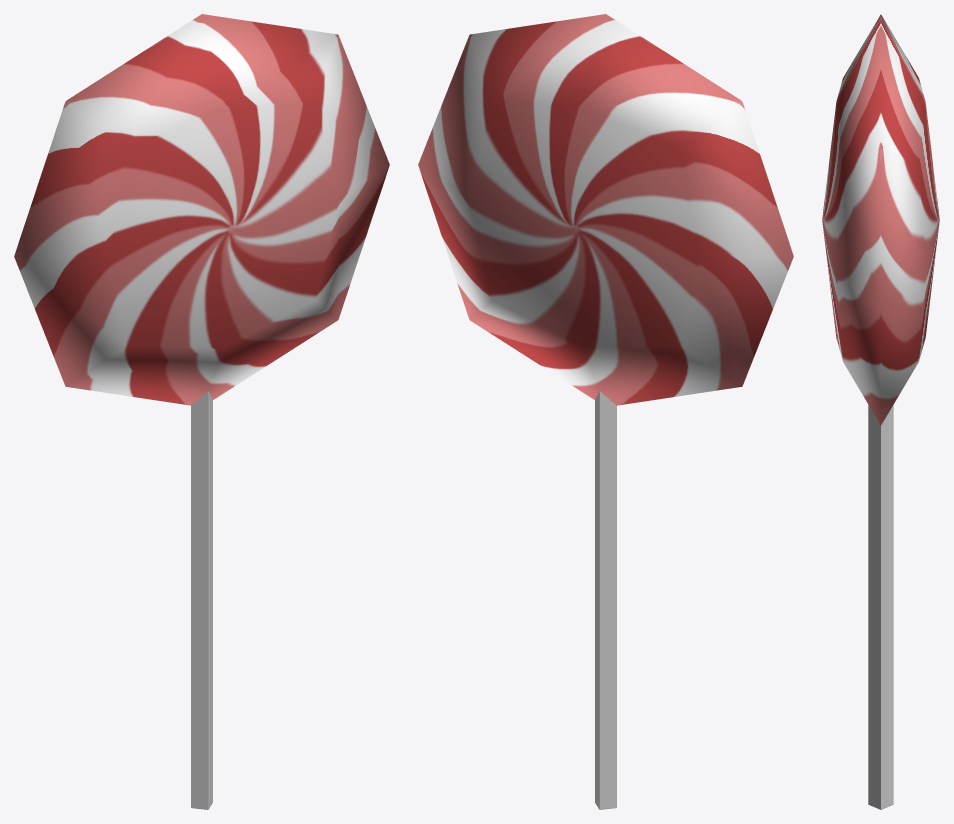
File: Lollipop.fbx
3 views of the same model, side by side, from view 1: azimuth 30°, elevation 25°; view 2: azimuth 150°, elevation 25°; view 3: azimuth 270°, elevation 25° (orthographic).
Visible parts, largest first — view 1: Lollipop; view 2: Lollipop; view 3: Lollipop.
Boxes of the visible parts, x1,y1,x2,y2 form: Lollipop: [14, 14, 389, 809]; Lollipop: [418, 14, 793, 809]; Lollipop: [822, 14, 939, 809].
Size of the model in its own units: 0.8731 by 0.2406 by 1.76.
